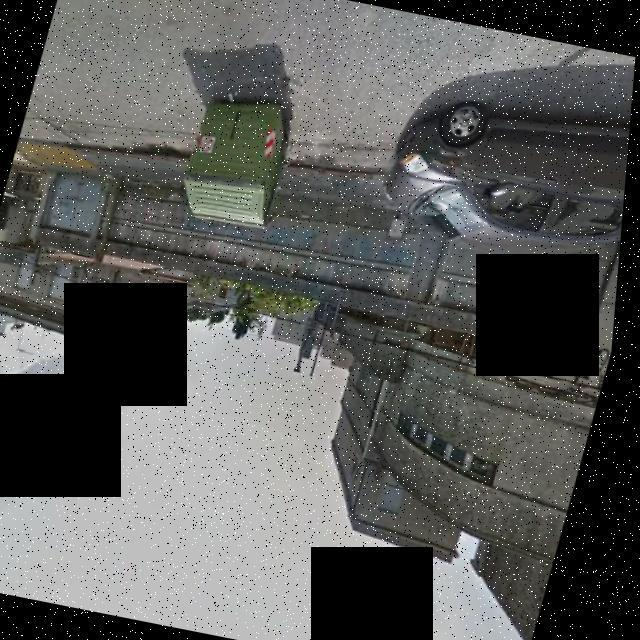bin: (166, 77, 317, 243)
